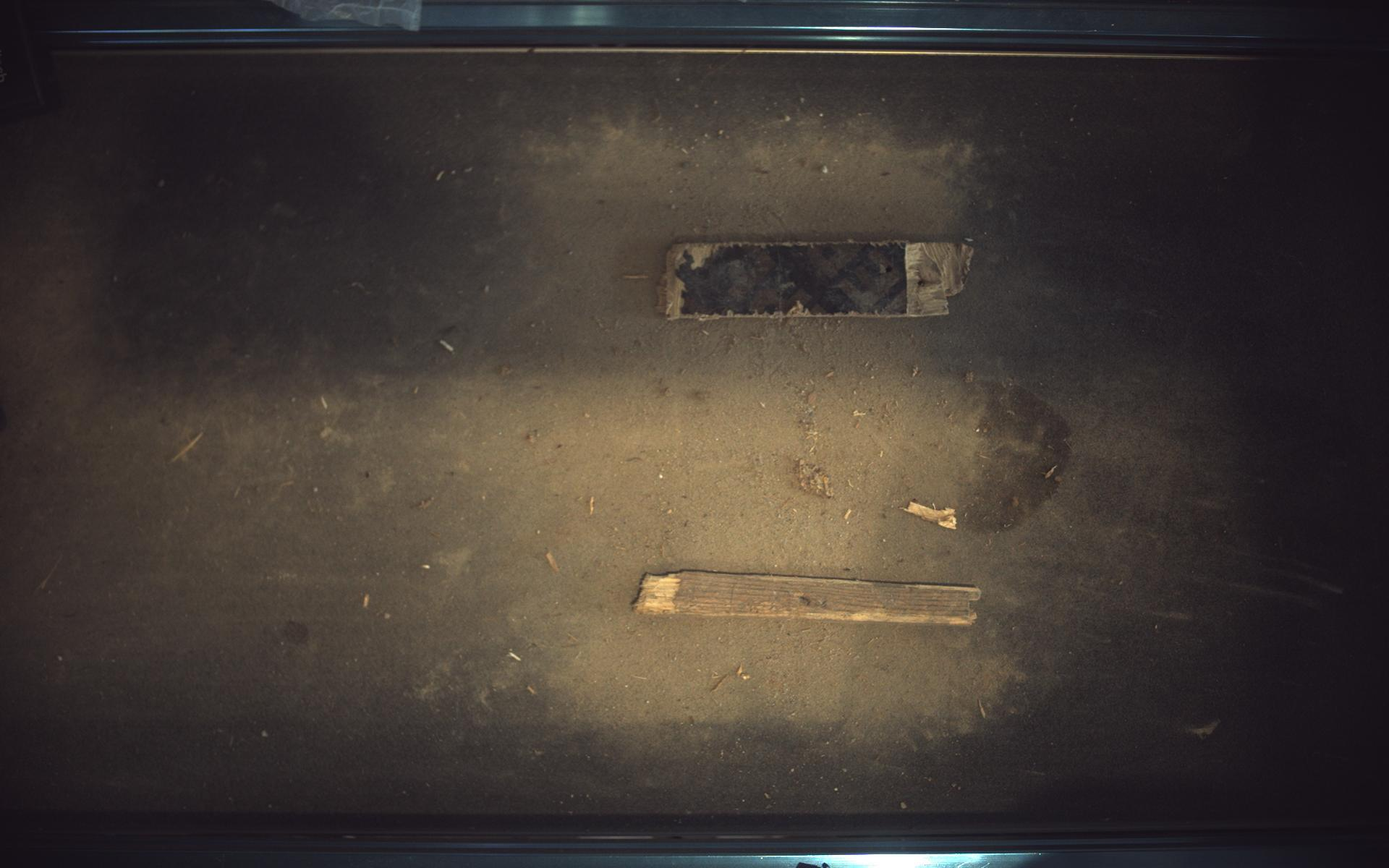wood: (662, 240, 976, 318), (635, 571, 983, 626)
